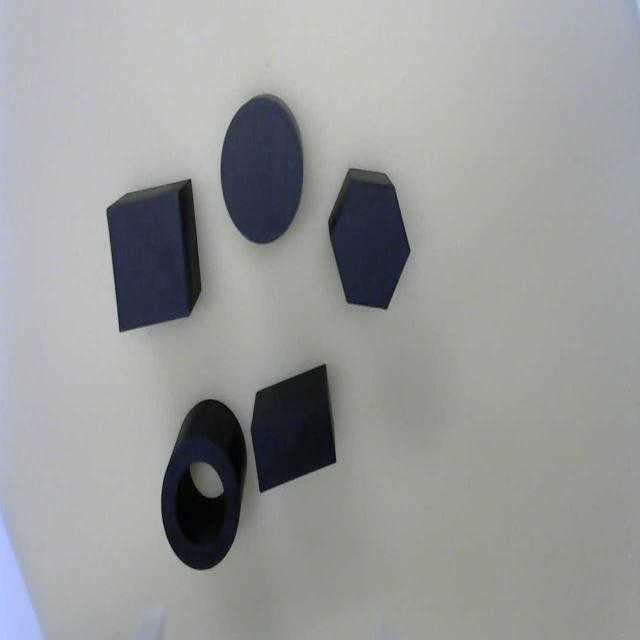circle: (220, 100, 303, 252)
hexagon: (327, 179, 413, 316)
rectangle: (106, 193, 191, 335), (250, 397, 339, 495)
ring: (161, 434, 243, 577)
